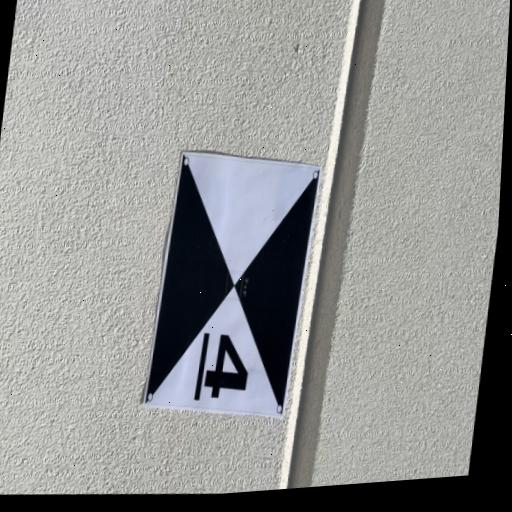target4: (145, 151, 323, 422)
